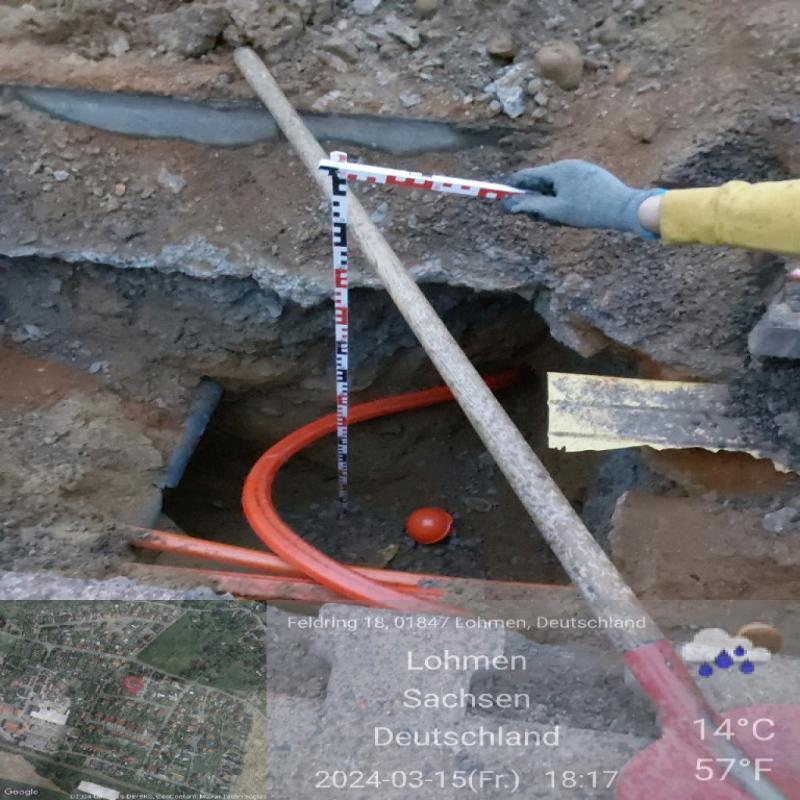Kugelmarker: (407, 508, 453, 543)
Orang-Speednetrohrchen: (228, 385, 455, 601)
